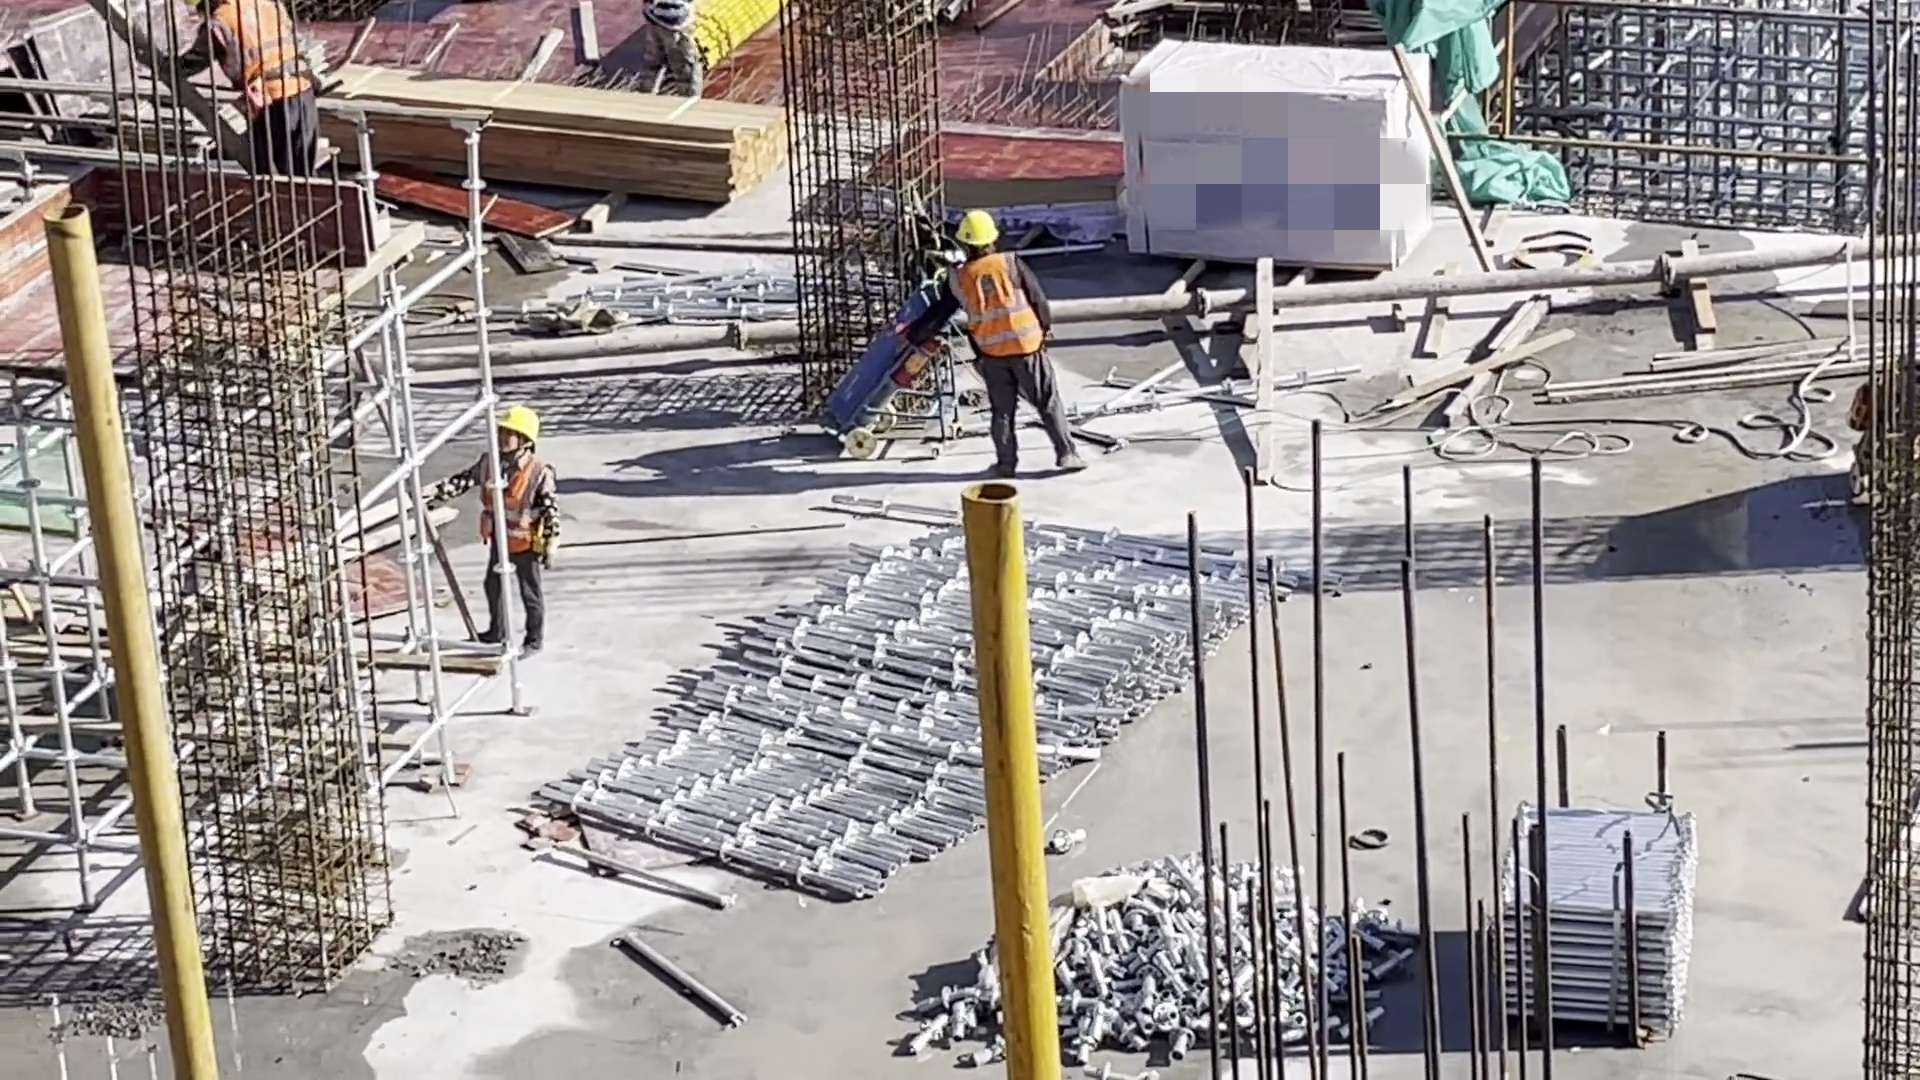helmet: (951, 209, 1004, 248), (496, 404, 543, 442)
person: (919, 208, 1088, 490), (419, 397, 558, 657), (156, 2, 333, 171), (634, 1, 710, 101)
vest: (954, 255, 1044, 364), (213, 4, 310, 104), (478, 452, 546, 557)
